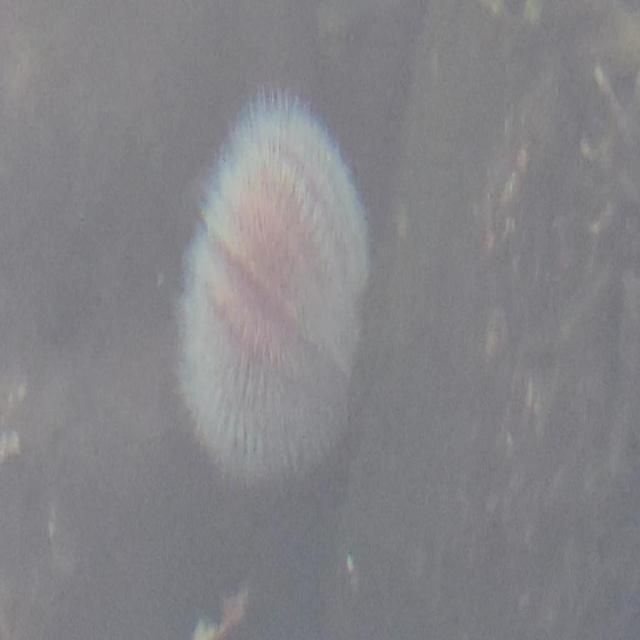Deniz Kestanesi: (175, 90, 372, 483)
